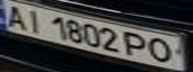0: (81, 21, 103, 48)
1: (45, 12, 69, 39)
2: (100, 25, 121, 54)
8: (63, 18, 84, 45)
A: (0, 2, 30, 29)
I: (21, 7, 48, 34)
O: (145, 35, 181, 64)
P: (124, 30, 151, 59)
